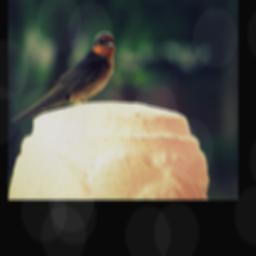Swallow: (10, 29, 116, 124)
